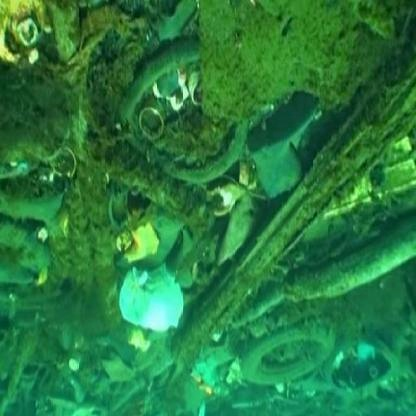plastic: (104, 266, 190, 340)
rod: (249, 97, 380, 371)
tire: (128, 34, 256, 196)
